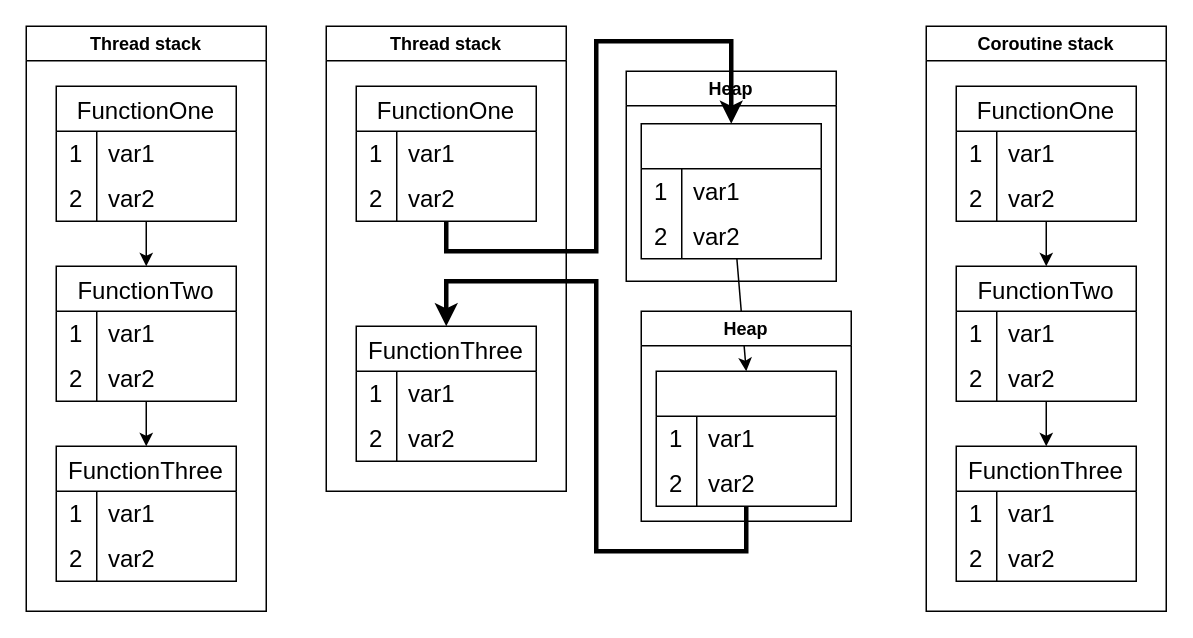
Image size: 1193x638. Some labels were removed from this diagram. The box of each missing label's shape, as (x1, y1, x2, y2) in pixels:
CoroOne: (640, 122, 821, 259)
CoroTwo: (655, 370, 836, 506)
